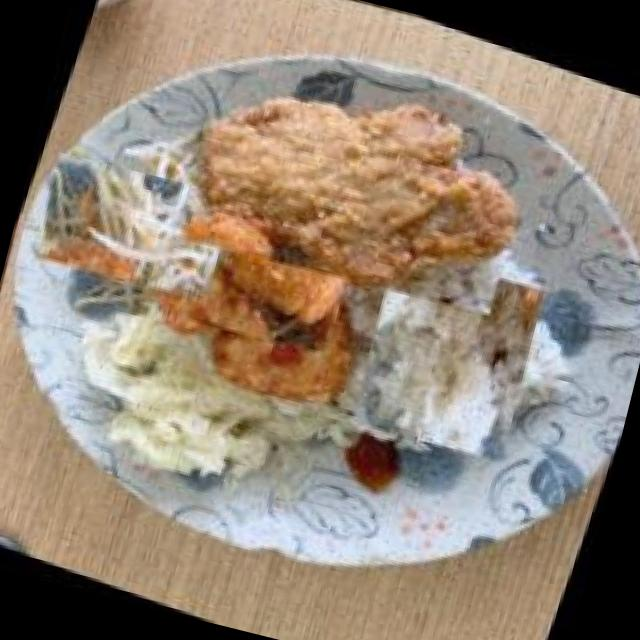chinese_cabbage: (65, 276, 352, 520)
fried_chicken: (154, 29, 556, 352)
mung_bean_sprouts: (26, 120, 236, 330)
rice: (324, 233, 566, 475)
triangle_hash_brown: (115, 164, 394, 443)
